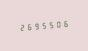five: (45, 19, 51, 30), (38, 20, 44, 30)
nine: (31, 21, 37, 31)
six: (24, 21, 30, 32), (59, 18, 65, 29)
two: (17, 22, 23, 32)
zero: (52, 19, 58, 29)
